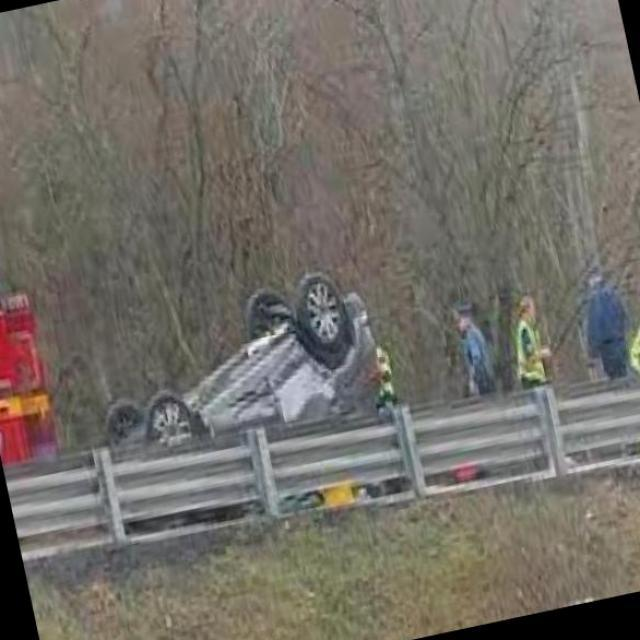accident: (64, 261, 412, 555)
